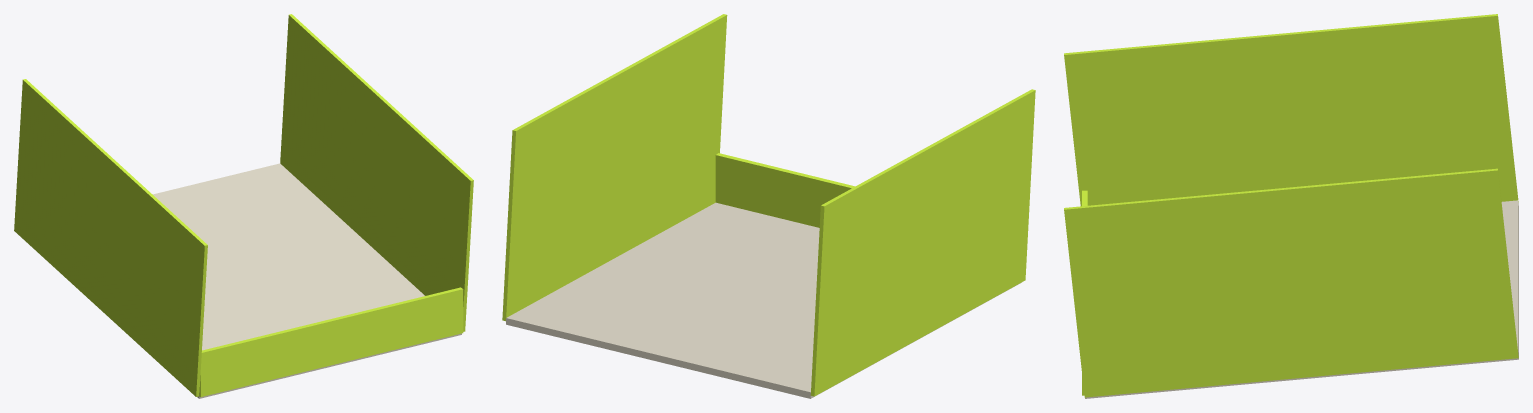
File: visuals.glb
The picture shows the model from 3 angles, left to right: view 1: azimuth 30°, elevation 25°; view 2: azimuth 150°, elevation 25°; view 3: azimuth 270°, elevation 25°; orthographic projection. The views are drawn at different scales.
Parts seen in each view (by area): view 1: finish-rail-left, finish-rail-right, finish-floor, finish-catch-wall; view 2: finish-rail-left, finish-rail-right, finish-floor, finish-catch-wall; view 3: finish-rail-right, finish-rail-left, finish-floor.
Part boxes in pixels (x1=…): finish-rail-left: x1=14, y1=79, x2=207, y2=396; finish-rail-right: x1=280, y1=14, x2=473, y2=331; finish-floor: x1=153, y1=163, x2=461, y2=398; finish-catch-wall: x1=199, y1=287, x2=463, y2=397; finish-rail-left: x1=810, y1=89, x2=1035, y2=396; finish-rail-right: x1=502, y1=14, x2=727, y2=321; finish-floor: x1=506, y1=202, x2=1021, y2=398; finish-catch-wall: x1=715, y1=153, x2=854, y2=227; finish-rail-right: x1=1064, y1=168, x2=1518, y2=397; finish-rail-left: x1=1064, y1=14, x2=1518, y2=206; finish-floor: x1=1085, y1=200, x2=1518, y2=398.
Bounding box in the file's own units: 0.512 × 0.3515 × 0.6292.
